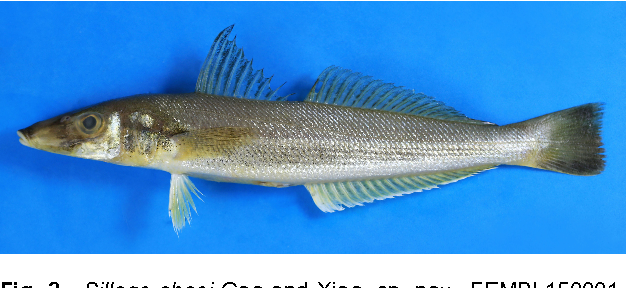kiss: (9, 80, 613, 189)
